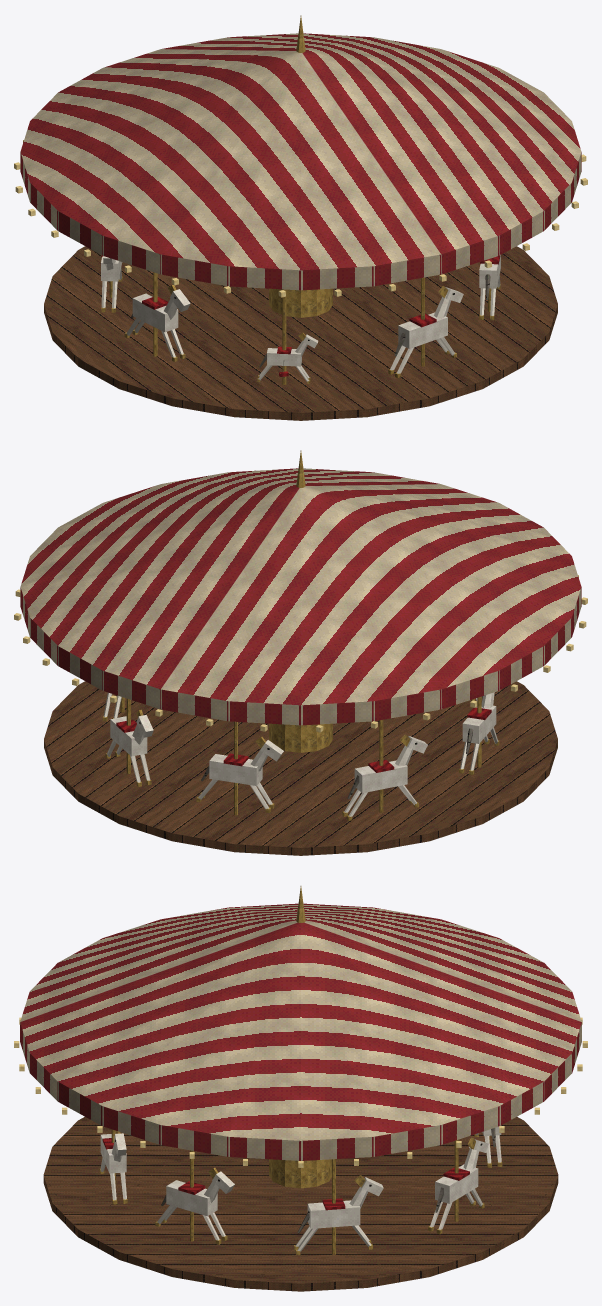
Rendered from tiovivo.obj.
3 renders of one model, top to bottom at view 1: azimuth 30°, elevation 25°; view 2: azimuth 150°, elevation 25°; view 3: azimuth 270°, elevation 25°, orthographic.
Visible parts, largest first — view 1: tiovivo; view 2: tiovivo; view 3: tiovivo.
Part boxes in pixels (x1=…): tiovivo: x1=14, y1=15, x2=587, y2=420; tiovivo: x1=14, y1=450, x2=587, y2=855; tiovivo: x1=14, y1=886, x2=587, y2=1291.
Size of the model in its own units: 9.81 by 5.63 by 9.81.
Materials: 8 (8 with a texture image).
